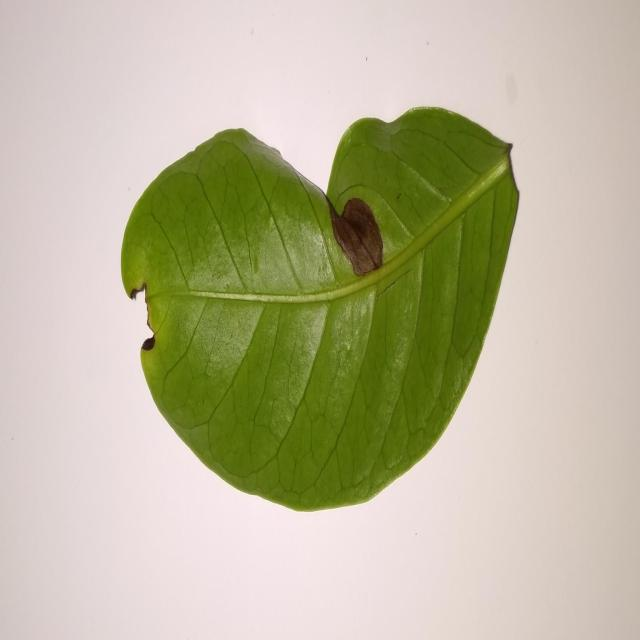phoma: (325, 195, 383, 278)
